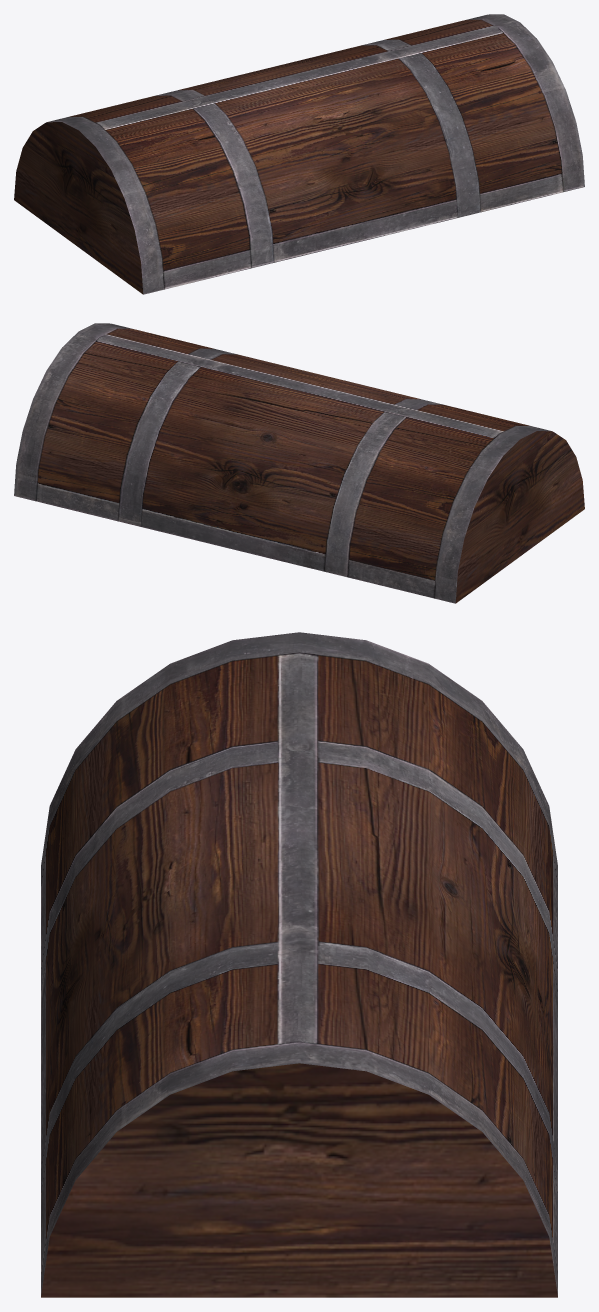
The model's file is Chest_Cover_LowPolygon.fbx.
3 views of the same model, one above another, from view 1: azimuth 30°, elevation 25°; view 2: azimuth 150°, elevation 25°; view 3: azimuth 270°, elevation 25° (orthographic). The views are drawn at different scales.
Visible parts, largest first — view 1: ChestCover_LowPolygon; view 2: ChestCover_LowPolygon; view 3: ChestCover_LowPolygon.
Boxes of the visible parts, <box> form: ChestCover_LowPolygon: <box>14,14,584,294</box>; ChestCover_LowPolygon: <box>14,323,584,603</box>; ChestCover_LowPolygon: <box>41,632,557,1297</box>.
Size of the model in its own units: 1.3 by 0.33 by 0.66.
